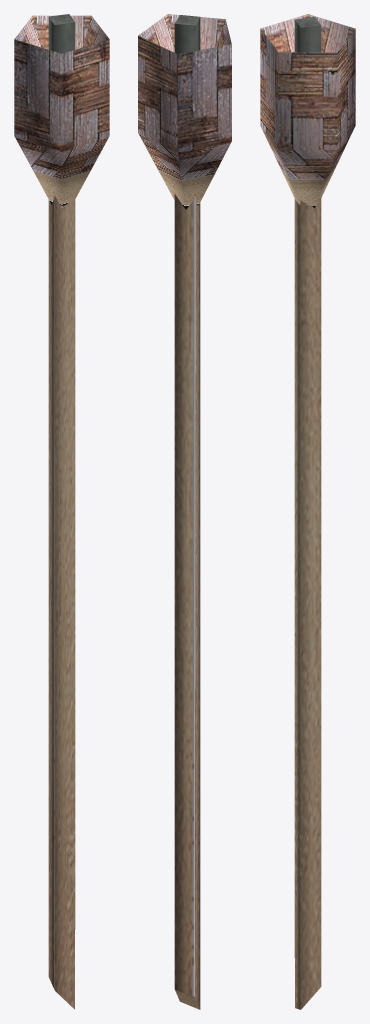
File: frn_all_tiki_torch_s1_l1.fbx
The picture shows the model from 3 angles, left to right: view 1: azimuth 90°, elevation 25°; view 2: azimuth 150°, elevation 25°; view 3: azimuth 270°, elevation 25°; orthographic projection.
Parts seen in each view (by area): view 1: mesh_node; view 2: mesh_node; view 3: mesh_node.
Part boxes in pixels (x1,y1,x2,y2): mesh_node: (14, 14, 109, 1009); mesh_node: (138, 14, 231, 1009); mesh_node: (260, 14, 355, 1009).
Bounding box in the file's own units: 0.1275 × 1.53 × 0.1341.
1 material, 1 textured.
